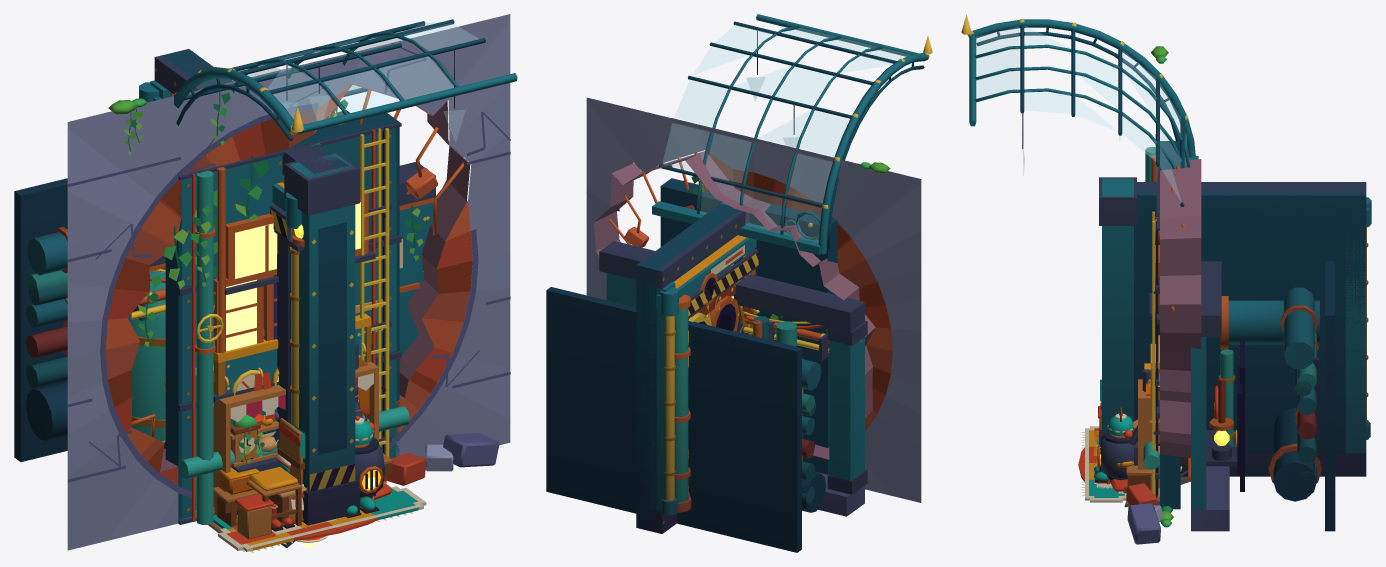
Rendered from interiors-DZXmbUBc.glb.
3 renders of one model, left to right at view 1: azimuth 30°, elevation 25°; view 2: azimuth 150°, elevation 25°; view 3: azimuth 270°, elevation 25°, orthographic. The views are drawn at different scales.
Visible parts, largest first — view 1: culvertOpening, shaftWallA, endWallSluice, galleryWallA, arcadeRoof, shaftWallB, galleryWallB, arcadeRoofGlass, memGaugeBoard, memKettleChair, shopInteriorA, memCoatHooks (+2 smaller); view 2: galleryWallA, culvertOpening, endWallSluice, arcadeRoofGlass, arcadeRoof, shaftWallA, endWallPipeBank, galleryWallB, endWallGaugePanel; view 3: endWallSluice, galleryWallA, culvertOpening, arcadeRoof, galleryWallB, arcadeRoofGlass, shaftWallA, memKettleChair, memCoatHooks, memGaugeBoard, shaftWallB, shopInteriorA.
Boxes of the visible parts, x1,y1,x2,y2 form: culvertOpening: (67,14,510,550); shaftWallA: (165,113,401,524); endWallSluice: (139,49,359,525); galleryWallA: (14,110,435,461); arcadeRoof: (174,19,517,145); shaftWallB: (178,128,409,521); galleryWallB: (26,203,432,448); arcadeRoofGlass: (188,22,478,141); memGaugeBoard: (213,313,423,552); memKettleChair: (191,329,385,540); shopInteriorA: (213,362,378,515); memCoatHooks: (191,299,426,551); galleryWallA: (546,241,867,552); culvertOpening: (586,97,921,502); endWallSluice: (636,202,758,533); arcadeRoofGlass: (662,25,909,242); arcadeRoof: (652,14,932,254); shaftWallA: (660,178,837,474); endWallPipeBank: (674,255,759,512); galleryWallB: (606,273,827,503); endWallGaugePanel: (673,235,750,485); endWallSluice: (1099,177,1371,476); galleryWallA: (1191,261,1335,531); culvertOpening: (1123,46,1201,544); arcadeRoof: (961,14,1198,207); galleryWallB: (1188,296,1319,509); arcadeRoofGlass: (976,26,1189,200); shaftWallA: (1145,141,1180,509); memKettleChair: (1078,369,1159,481); memCoatHooks: (1090,335,1159,502); memGaugeBoard: (1080,343,1159,500); shaftWallB: (1143,211,1159,494); shopInteriorA: (1132,379,1159,495).
Bounding box in the file's own units: 8.01 × 9.46 × 7.94.
